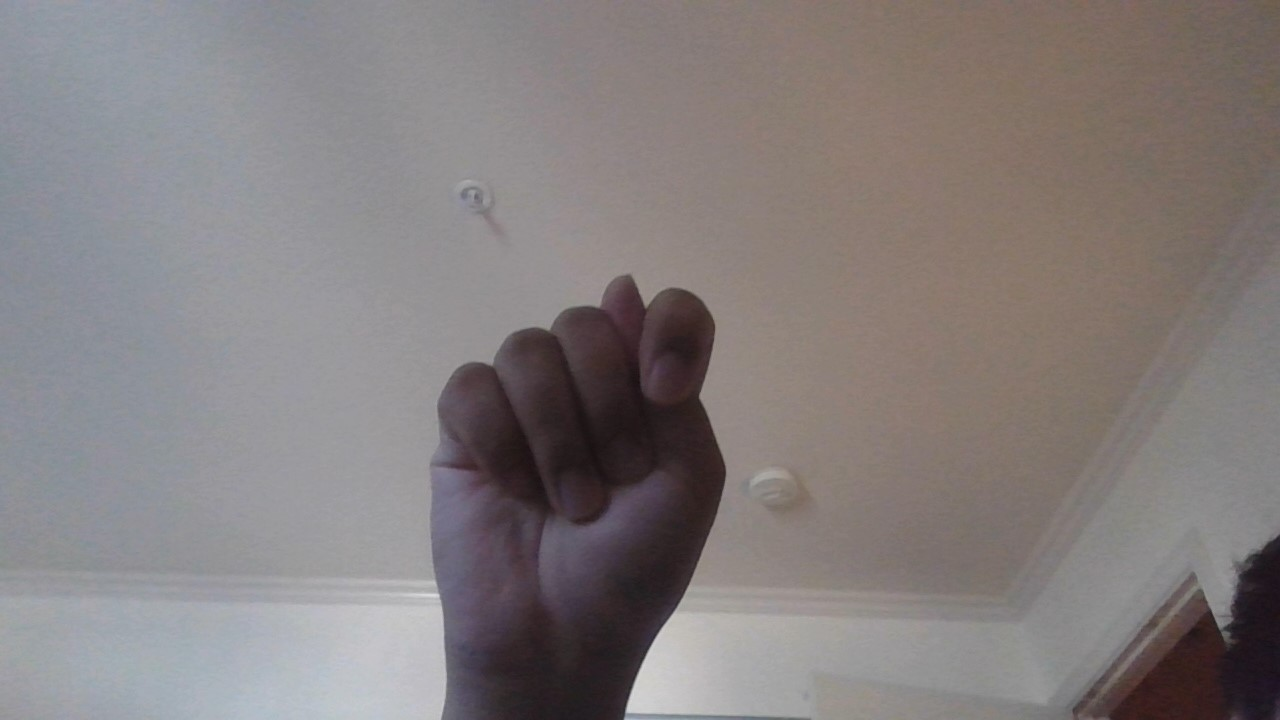t: (323, 259, 762, 703)
